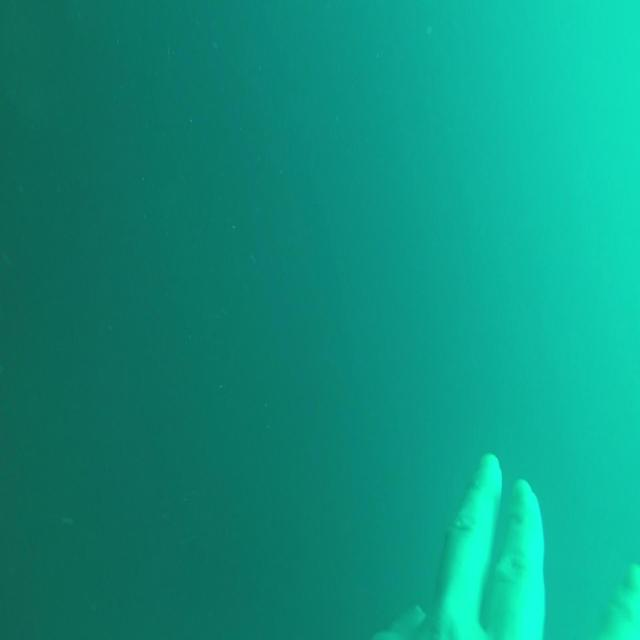human: (372, 451, 638, 638)
